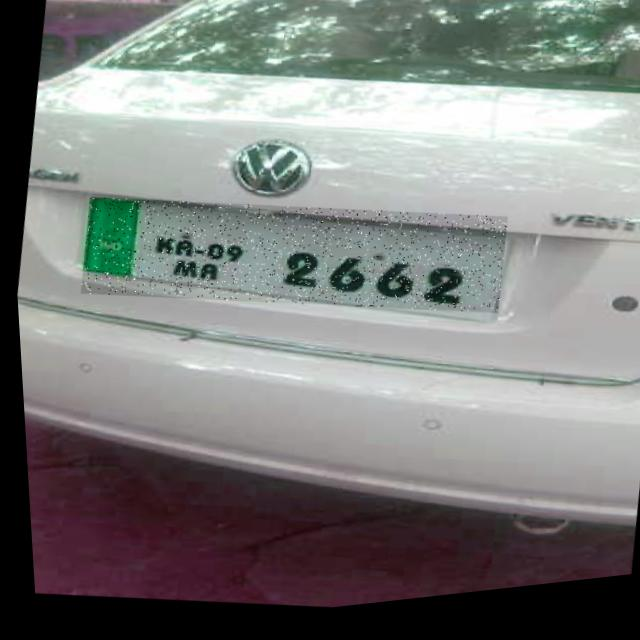license_plate: (73, 163, 509, 360)
